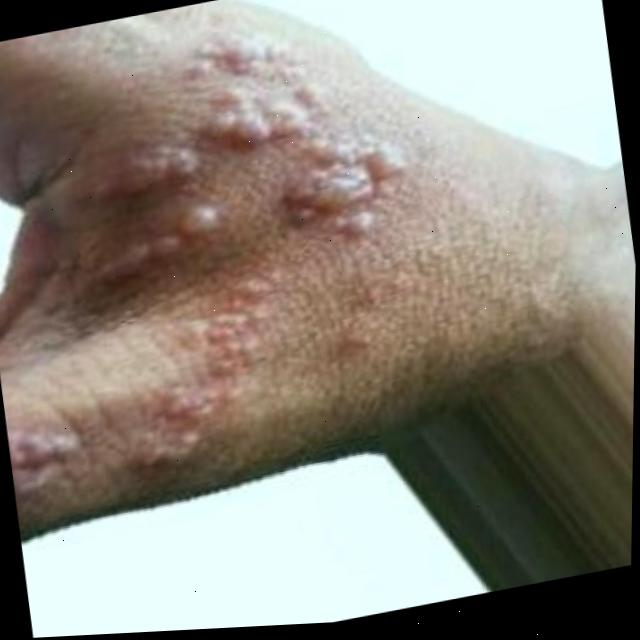Shingles: (0, 23, 440, 520)
